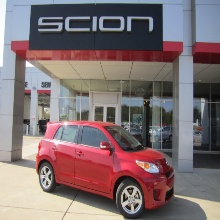no damage: (35, 121, 175, 219)
